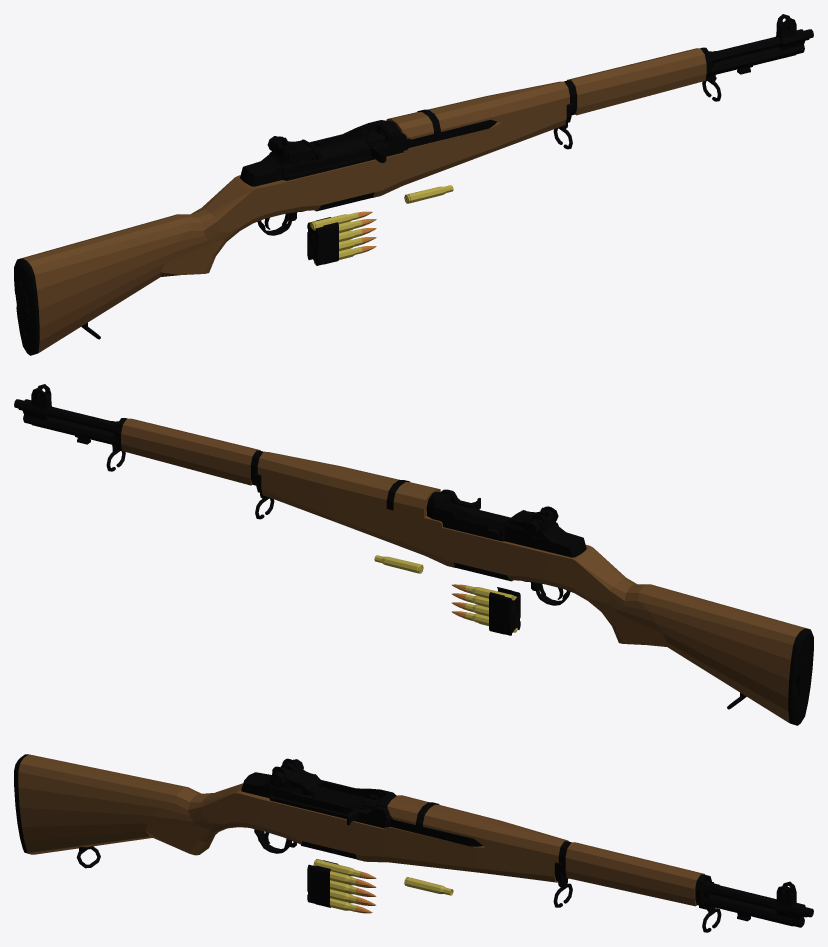
The model's file is m1_garand.glb.
The picture shows the model from 3 angles, top to bottom: view 1: azimuth 30°, elevation 25°; view 2: azimuth 150°, elevation 25°; view 3: azimuth 330°, elevation 25°; orthographic projection.
Parts seen in each view (by area): view 1: m1 garand_3, 3006 m1gar clip 8rnd (garand)_2, m1gar reload handle_4, m1gar bolt carrier_8; view 2: m1 garand_3, 3006 m1gar clip 8rnd (garand)_2; view 3: m1 garand_3, 3006 m1gar clip 8rnd (garand)_2, m1gar reload handle_4, m1gar bolt carrier_8, Object_4.
Boxes of the visible parts, x1,y1,x2,y2 form: m1 garand_3: (14, 14, 813, 355); 3006 m1gar clip 8rnd (garand)_2: (307, 211, 376, 265); m1gar reload handle_4: (370, 119, 497, 162); m1gar bolt carrier_8: (312, 131, 385, 160); m1 garand_3: (14, 384, 813, 725); 3006 m1gar clip 8rnd (garand)_2: (452, 584, 520, 635); m1 garand_3: (14, 754, 813, 932); 3006 m1gar clip 8rnd (garand)_2: (307, 859, 376, 913); m1gar reload handle_4: (347, 806, 703, 901); m1gar bolt carrier_8: (310, 785, 380, 811); Object_4: (404, 877, 453, 895).
Size of the model in its own units: 11.09 by 2.08 by 0.7264.
